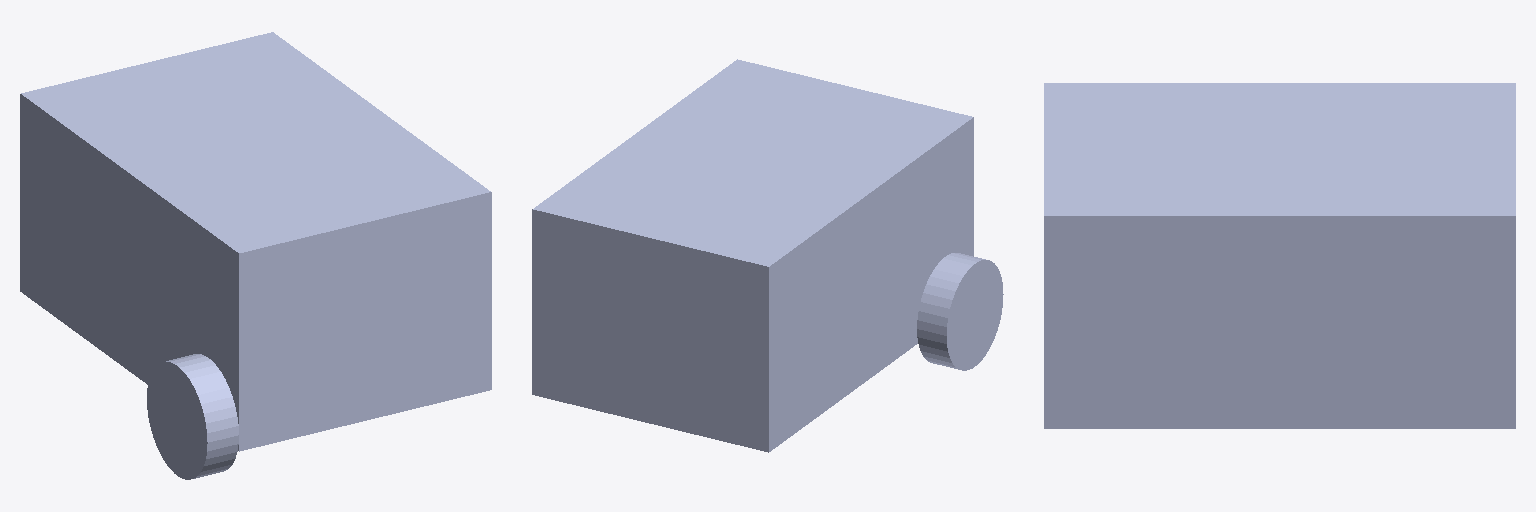
robot.urdf — VerySimpleBoxAssembly:
<?xml version="1.0" encoding="utf-8"?>
<!-- This URDF was automatically created by SolidWorks to URDF Exporter! Originally created by [author] ([email redacted]) 
     Commit Version: 1.6.0-4-g7f85cfe  Build Version: 1.6.7995.38578
     For more information, please see http://wiki.ros.org/sw_urdf_exporter -->
<robot
  name="VerySimpleBoxAssembly">
  <link
    name="base_link">
    <inertial>
      <origin
        xyz="0.093937 0.52568 0.79948"
        rpy="0 0 0" />
      <mass
        value="36" />
      <inertia
        ixx="22.197"
        ixy="1.9214E-31"
        ixz="4.2299E-16"
        iyy="25.65"
        iyz="-4.2299E-16"
        izz="12.332" />
    </inertial>
    <visual>
      <origin
        xyz="0 0 0"
        rpy="0 0 0" />
      <geometry>
        <mesh
          filename="package://VerySimpleBoxAssembly/meshes/base_link.STL" />
      </geometry>
      <material
        name="">
        <color
          rgba="0.79216 0.81961 0.93333 1" />
      </material>
    </visual>
    <collision>
      <origin
        xyz="0 0 0"
        rpy="0 0 0" />
      <geometry>
        <mesh
          filename="package://VerySimpleBoxAssembly/meshes/base_link.STL" />
      </geometry>
    </collision>
  </link>
  <link
    name="LR_wheel">
    <inertial>
      <origin
        xyz="0 -0.0381 0"
        rpy="0 0 0" />
      <mass
        value="2" />
      <inertia
        ixx="0.017437"
        ixy="-3.6104E-35"
        ixz="0"
        iyy="0.031138"
        iyz="1.6175E-34"
        izz="0.017437" />
    </inertial>
    <visual>
      <origin
        xyz="0 0 0"
        rpy="0 0 0" />
      <geometry>
        <mesh
          filename="package://VerySimpleBoxAssembly/meshes/LR_wheel.STL" />
      </geometry>
      <material
        name="">
        <color
          rgba="0.79216 0.81961 0.93333 1" />
      </material>
    </visual>
    <collision>
      <origin
        xyz="0 0 0"
        rpy="0 0 0" />
      <geometry>
        <mesh
          filename="package://VerySimpleBoxAssembly/meshes/LR_wheel.STL" />
      </geometry>
    </collision>
  </link>
  <joint
    name="LR_wheel_cont"
    type="continuous">
    <origin
      xyz="-0.21086 -0.46928 0.33518"
      rpy="1.5708 1.5708 0" />
    <parent
      link="base_link" />
    <child
      link="LR_wheel" />
    <axis
      xyz="0 1 0" />
    <limit
      effort="0"
      velocity="28.8" />
  </joint>
  <link
    name="LF_wheel">
    <inertial>
      <origin
        xyz="0 -0.0381 2.2204E-16"
        rpy="0 0 0" />
      <mass
        value="2" />
      <inertia
        ixx="0.017437"
        ixy="-3.6104E-35"
        ixz="0"
        iyy="0.031138"
        iyz="1.4294E-34"
        izz="0.017437" />
    </inertial>
    <visual>
      <origin
        xyz="0 0 0"
        rpy="0 0 0" />
      <geometry>
        <mesh
          filename="package://VerySimpleBoxAssembly/meshes/LF_wheel.STL" />
      </geometry>
      <material
        name="">
        <color
          rgba="0.79216 0.81961 0.93333 1" />
      </material>
    </visual>
    <collision>
      <origin
        xyz="0 0 0"
        rpy="0 0 0" />
      <geometry>
        <mesh
          filename="package://VerySimpleBoxAssembly/meshes/LF_wheel.STL" />
      </geometry>
    </collision>
  </link>
  <joint
    name="LF_wheel_cont"
    type="continuous">
    <origin
      xyz="-0.21086 -1.1297 0.33518"
      rpy="1.5708 1.5708 0" />
    <parent
      link="base_link" />
    <child
      link="LF_wheel" />
    <axis
      xyz="0 1 0" />
    <limit
      effort="0"
      velocity="28.8" />
  </joint>
  <link
    name="RF_wheel">
    <inertial>
      <origin
        xyz="0 -0.0381 2.2204E-16"
        rpy="0 0 0" />
      <mass
        value="2" />
      <inertia
        ixx="0.017437"
        ixy="-3.6104E-35"
        ixz="4.1762E-50"
        iyy="0.031138"
        iyz="1.0344E-34"
        izz="0.017437" />
    </inertial>
    <visual>
      <origin
        xyz="0 0 0"
        rpy="0 0 0" />
      <geometry>
        <mesh
          filename="package://VerySimpleBoxAssembly/meshes/RF_wheel.STL" />
      </geometry>
      <material
        name="">
        <color
          rgba="0.79216 0.81961 0.93333 1" />
      </material>
    </visual>
    <collision>
      <origin
        xyz="0 0 0"
        rpy="0 0 0" />
      <geometry>
        <mesh
          filename="package://VerySimpleBoxAssembly/meshes/RF_wheel.STL" />
      </geometry>
    </collision>
  </link>
  <joint
    name="RF_wheel_cont"
    type="continuous">
    <origin
      xyz="0.39874 -1.1297 0.33518"
      rpy="1.5708 -1.5708 0" />
    <parent
      link="base_link" />
    <child
      link="RF_wheel" />
    <axis
      xyz="0 1 0" />
    <limit
      effort="0"
      velocity="28.8" />
  </joint>
  <link
    name="RR_wheel">
    <inertial>
      <origin
        xyz="0 -0.0381 0"
        rpy="0 0 0" />
      <mass
        value="2" />
      <inertia
        ixx="0.017437"
        ixy="-3.6104E-35"
        ixz="4.1762E-50"
        iyy="0.031138"
        iyz="1.0344E-34"
        izz="0.017437" />
    </inertial>
    <visual>
      <origin
        xyz="0 0 0"
        rpy="0 0 0" />
      <geometry>
        <mesh
          filename="package://VerySimpleBoxAssembly/meshes/RR_wheel.STL" />
      </geometry>
      <material
        name="">
        <color
          rgba="0.79216 0.81961 0.93333 1" />
      </material>
    </visual>
    <collision>
      <origin
        xyz="0 0 0"
        rpy="0 0 0" />
      <geometry>
        <mesh
          filename="package://VerySimpleBoxAssembly/meshes/RR_wheel.STL" />
      </geometry>
    </collision>
  </link>
  <joint
    name="RR_wheel_cont"
    type="continuous">
    <origin
      xyz="0.39874 -0.46928 0.33518"
      rpy="1.5708 -1.5708 0" />
    <parent
      link="base_link" />
    <child
      link="RR_wheel" />
    <axis
      xyz="0 1 0" />
    <limit
      effort="0"
      velocity="28.8" />
  </joint>
</robot>

--- Render facts (derived) ---
3 views of the same robot in one strip: view 1: azimuth 30°, elevation 25°; view 2: azimuth 150°, elevation 25°; view 3: azimuth 270°, elevation 25° (orthographic).
Robot: VerySimpleBoxAssembly — 5 links, 4 joints (4 continuous); root link base_link; default pose: every joint at zero.
Visible links, largest first — view 1: base_link, LF_wheel; view 2: base_link, LF_wheel; view 3: base_link.
Link boxes in pixels (bbox=[...]): base_link: bbox=[20, 32, 491, 451]; LF_wheel: bbox=[147, 354, 238, 479]; base_link: bbox=[532, 59, 973, 452]; LF_wheel: bbox=[917, 253, 1003, 370]; base_link: bbox=[1044, 83, 1515, 428].
Bounding box of the posed robot: 0.6858 × 0.9144 × 0.5457 m (x, y, z).
Meshes: 5 distinct files referenced, 2 mesh visuals loaded (2 binary STL); not drawn: 3 (reference not matched to a file when rendering).